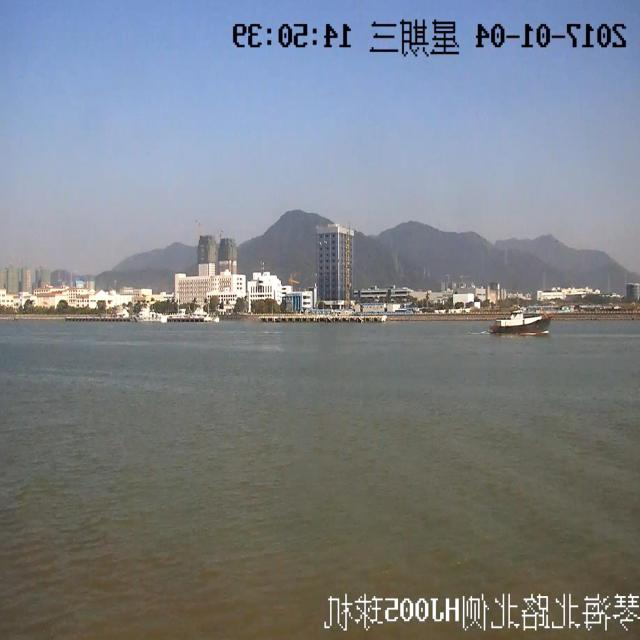cargoship: (488, 292, 560, 344)
